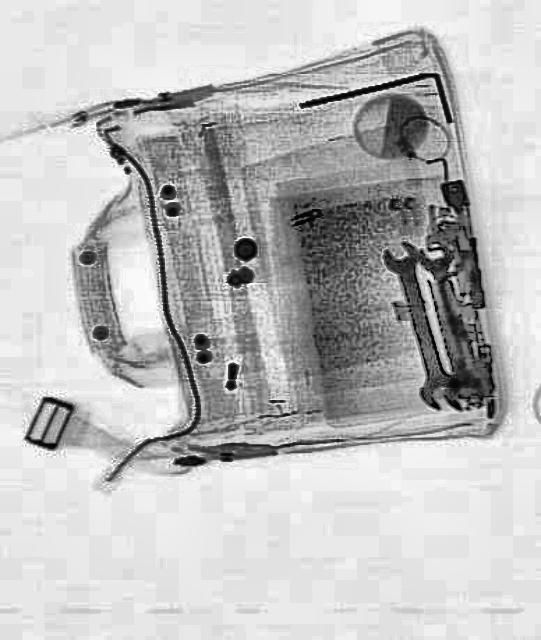Wrench: (376, 238, 462, 412), (414, 238, 484, 412)
